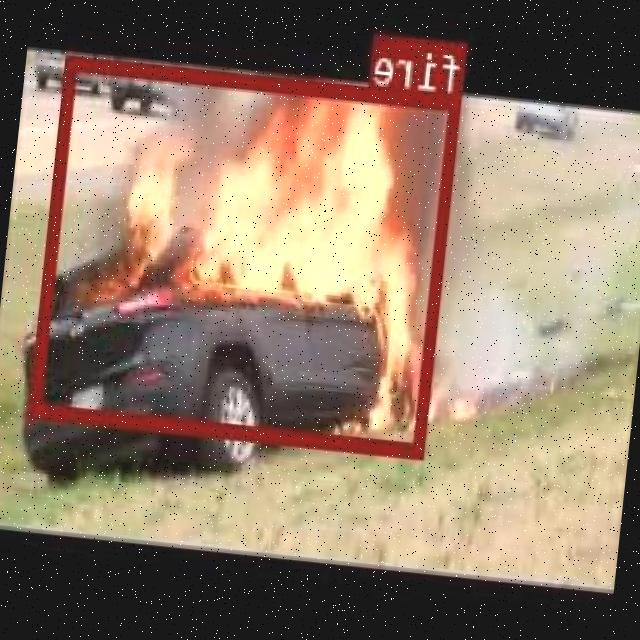fire: (32, 53, 464, 456)
